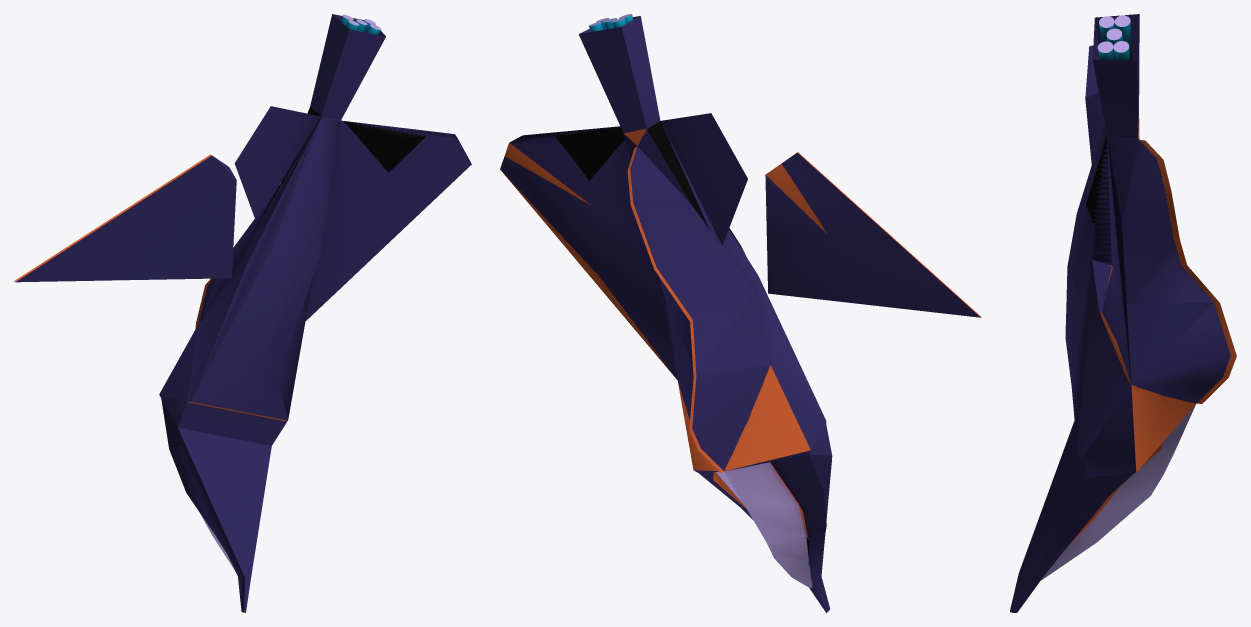
Rendered from Spaceship_broken.fbx.
The picture shows the model from 3 angles, left to right: view 1: azimuth 30°, elevation 25°; view 2: azimuth 150°, elevation 25°; view 3: azimuth 270°, elevation 25°; orthographic projection. The views are drawn at different scales.
Visible parts, largest first — view 1: Ship.001; view 2: Ship.001; view 3: Ship.001.
Part boxes in pixels (<box>): Ship.001: <box>14,14,471,612</box>; Ship.001: <box>500,14,981,612</box>; Ship.001: <box>1010,14,1236,612</box>.
Size of the model in its own units: 1344 by 1530 by 458.
1 material, 1 textured.
